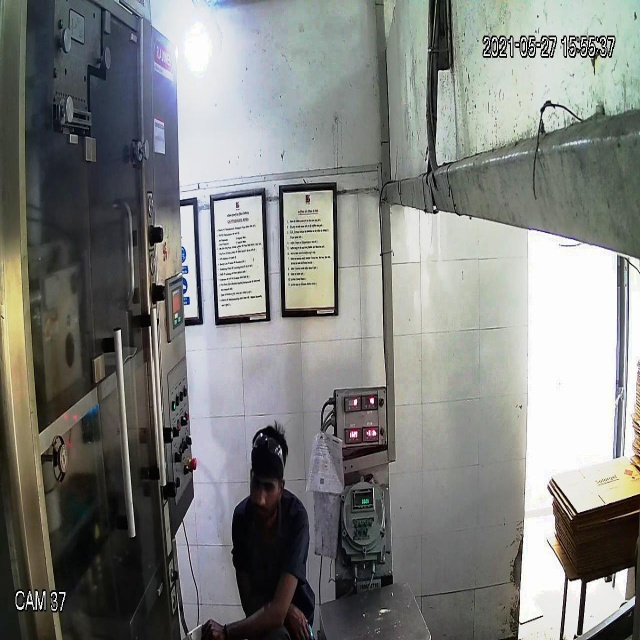Sin_gafas: (246, 468, 288, 503)
